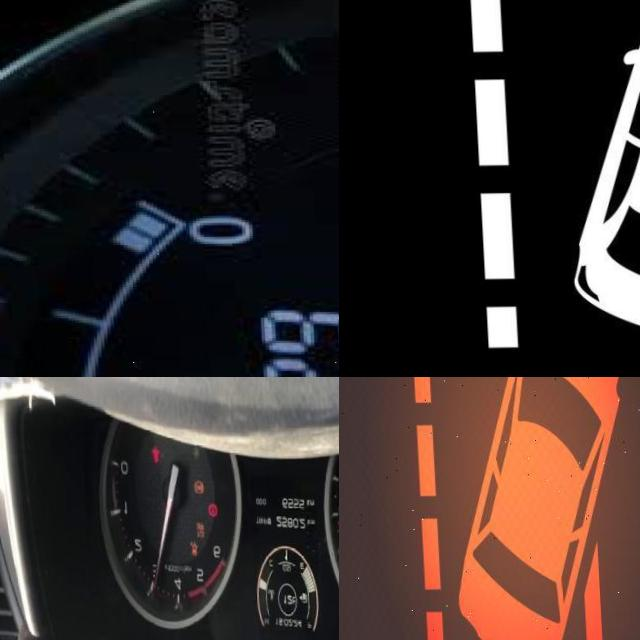Seat Belt: (149, 446, 158, 465)
